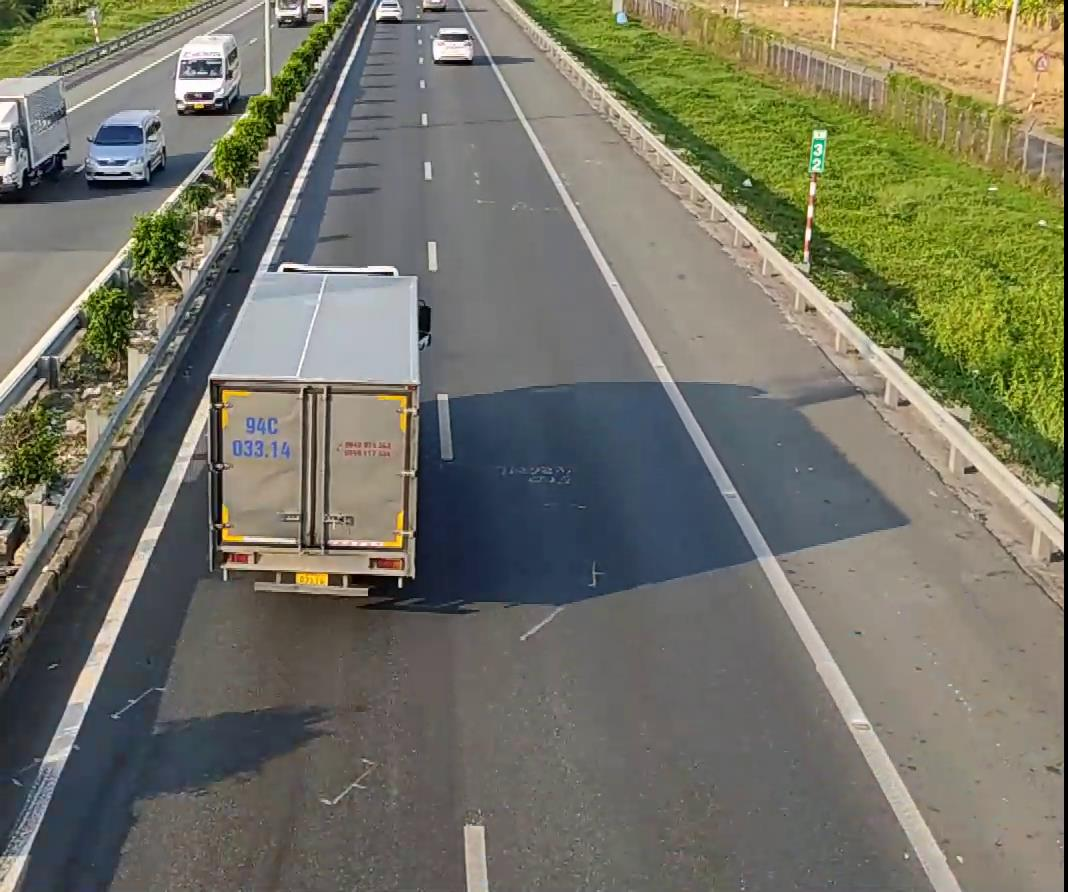car: (83, 109, 167, 186), (172, 30, 242, 113)
truck: (201, 264, 423, 598), (0, 72, 71, 198)
